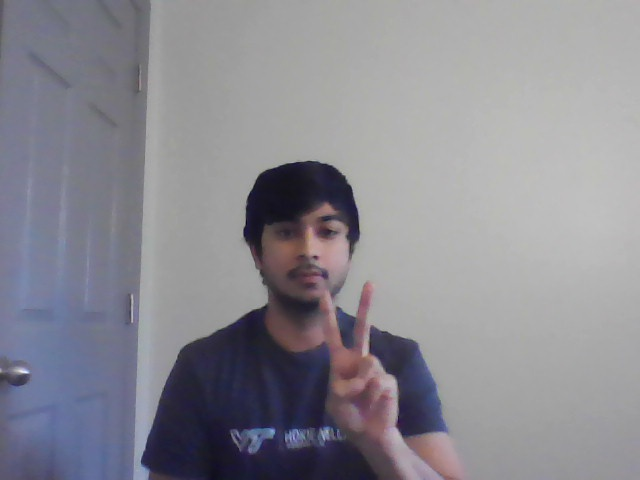two: (311, 278, 411, 436)
